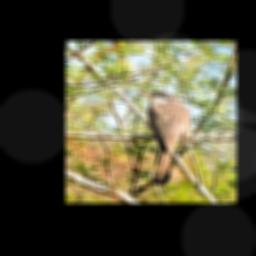Cuckoo: (137, 91, 192, 185)
